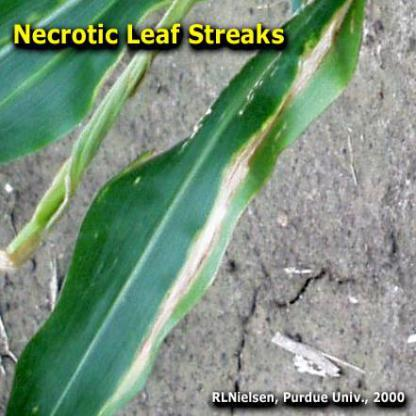Corn leaf blight: (41, 51, 350, 381)
